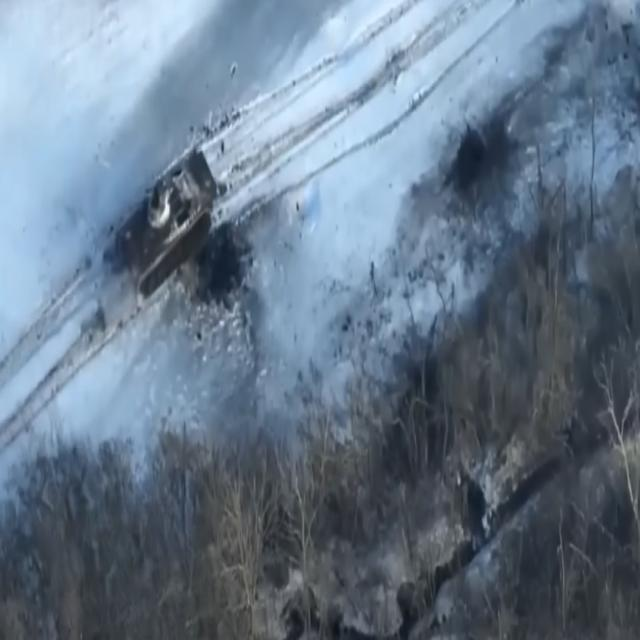AIFV: (115, 143, 220, 310)
